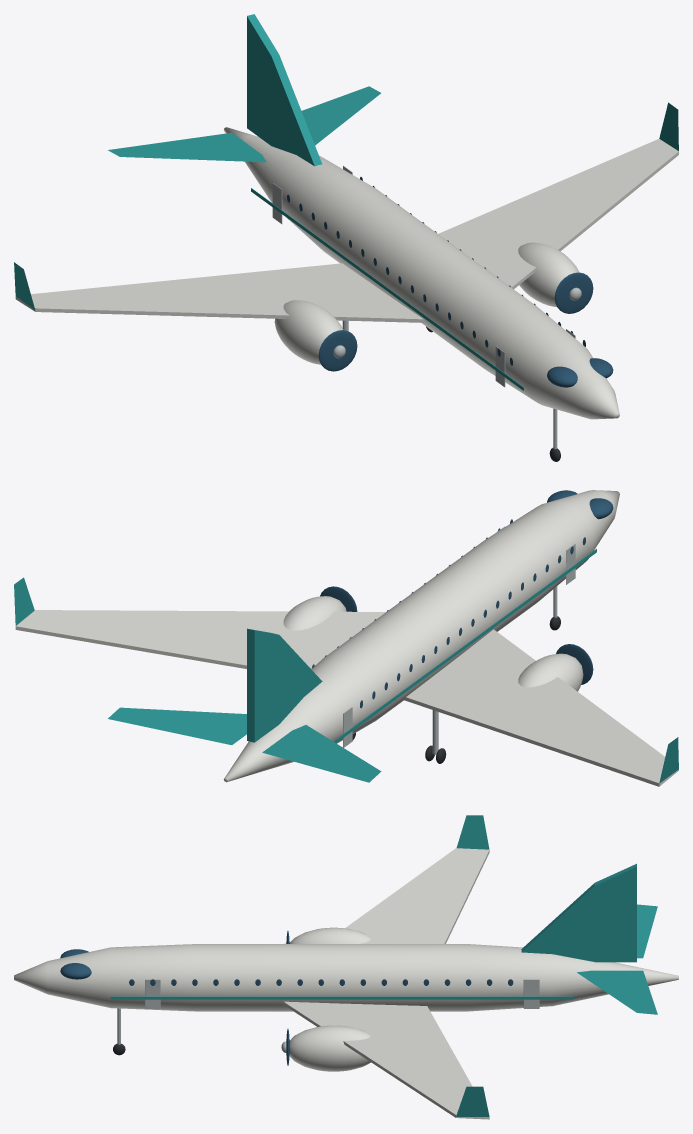
File: airliner-s05.glb
3 renders of one model, top to bottom at view 1: azimuth 30°, elevation 25°; view 2: azimuth 150°, elevation 25°; view 3: azimuth 270°, elevation 25°, orthographic. The views are drawn at different scales.
Parts seen in each view (by area): view 1: airliner_white, airliner_teal, airliner_navy, airliner_silver; view 2: airliner_white, airliner_teal, airliner_navy, airliner_silver; view 3: airliner_white, airliner_teal, airliner_navy, airliner_silver.
Part boxes in pixels (box(x1,y1,x2,y2)): airliner_white: box(15, 127, 678, 419); airliner_teal: box(14, 14, 678, 390); airliner_navy: box(287, 177, 613, 387); airliner_silver: box(272, 165, 581, 449); airliner_white: box(15, 490, 678, 786); airliner_teal: box(14, 549, 678, 783); airliner_navy: box(311, 490, 613, 708); airliner_silver: box(343, 526, 575, 754); airliner_white: box(14, 848, 678, 1119); airliner_teal: box(110, 815, 657, 1116); airliner_navy: box(60, 931, 513, 1065); airliner_silver: box(117, 943, 539, 1052).
Bounding box in the file's own units: 30.5 × 9.97 × 31.6.
